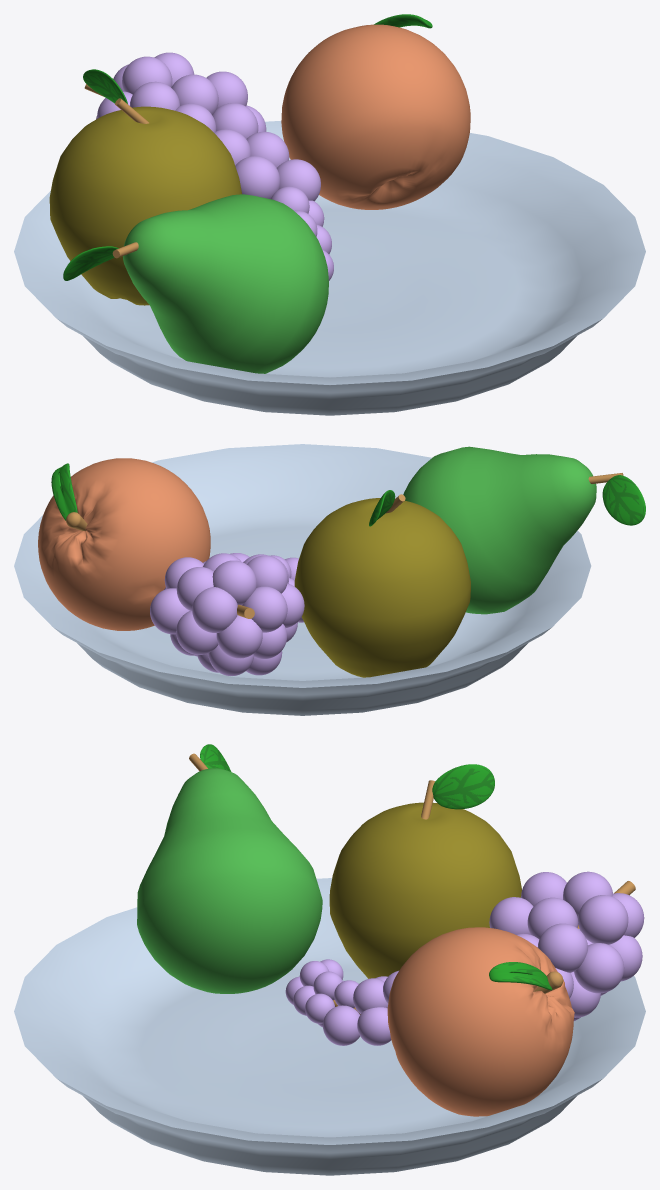
Rendered from Plate+.FBX.
The picture shows the model from 3 angles, top to bottom: view 1: azimuth 30°, elevation 25°; view 2: azimuth 150°, elevation 25°; view 3: azimuth 270°, elevation 25°; orthographic projection. The views are drawn at different scales.
Visible parts, largest first — view 1: Cone001, Sphere001, Sphere062, Sphere004, Sphere044, Sphere008, Sphere043, Sphere012, Sphere048, Sphere013, Sphere046, Sphere056 (+5 smaller); view 2: Cone001, Sphere004, Sphere062, Sphere001, Sphere003, Sphere005, Sphere007, Sphere006, Sphere008, Sphere057, Sphere015, Sphere013 (+8 smaller); view 3: Cone001, Sphere001, Sphere062, Sphere004, Sphere002, Sphere016, Sphere057, Sphere056, Sphere012, Sphere049, Sphere008, Sphere026 (+8 smaller).
Part boxes in pixels (x1=…): Cone001: x1=14, y1=121, x2=645, y2=415; Sphere001: x1=123, y1=194, x2=328, y2=373; Sphere062: x1=281, y1=24, x2=470, y2=209; Sphere004: x1=49, y1=106, x2=241, y2=305; Sphere044: x1=235, y1=156, x2=279, y2=198; Sphere008: x1=122, y1=56, x2=172, y2=94; Sphere043: x1=276, y1=159, x2=320, y2=201; Sphere012: x1=171, y1=74, x2=218, y2=115; Sphere048: x1=212, y1=103, x2=258, y2=138; Sphere013: x1=130, y1=81, x2=179, y2=110; Sphere046: x1=246, y1=131, x2=289, y2=167; Sphere056: x1=206, y1=71, x2=247, y2=108; Cone001: x1=14, y1=444, x2=591, y2=715; Sphere004: x1=294, y1=498, x2=470, y2=677; Sphere062: x1=38, y1=458, x2=210, y2=630; Sphere001: x1=403, y1=446, x2=596, y2=614; Sphere003: x1=602, y1=475, x2=645, y2=525; Sphere005: x1=192, y1=587, x2=237, y2=632; Sphere007: x1=216, y1=615, x2=262, y2=658; Sphere006: x1=242, y1=586, x2=287, y2=632; Sphere008: x1=212, y1=560, x2=256, y2=605; Sphere057: x1=150, y1=588, x2=189, y2=634; Sphere015: x1=176, y1=611, x2=218, y2=654; Sphere013: x1=247, y1=555, x2=287, y2=593; Cone001: x1=14, y1=878, x2=645, y2=1175; Sphere001: x1=137, y1=768, x2=322, y2=993; Sphere062: x1=387, y1=927, x2=574, y2=1116; Sphere004: x1=329, y1=802, x2=521, y2=978; Sphere002: x1=432, y1=764, x2=494, y2=809; Sphere016: x1=578, y1=895, x2=628, y2=944; Sphere057: x1=574, y1=943, x2=624, y2=993; Sphere056: x1=537, y1=923, x2=587, y2=972; Sphere012: x1=527, y1=897, x2=577, y2=939; Sphere049: x1=489, y1=897, x2=533, y2=934; Sphere008: x1=563, y1=871, x2=612, y2=919; Sphere026: x1=323, y1=1005, x2=359, y2=1045.
Bounding box in the file's own units: 109 × 39.51 × 100.
67 materials, 67 textured.
